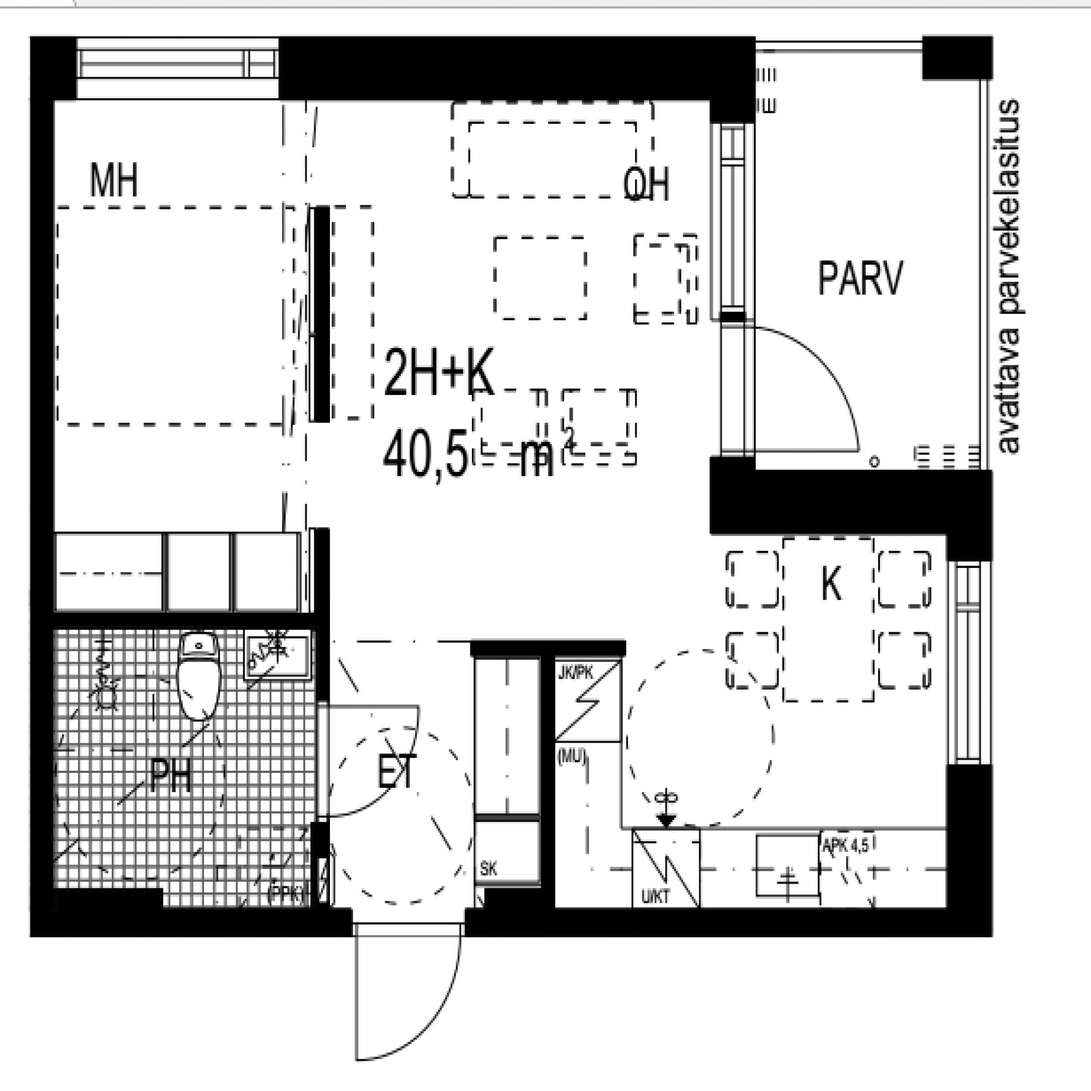wall: (29, 35, 756, 97), (29, 907, 994, 938), (944, 533, 994, 907), (708, 471, 994, 535), (708, 97, 755, 470), (28, 97, 55, 610), (28, 629, 55, 888), (32, 614, 332, 628), (314, 203, 331, 421), (924, 33, 995, 83), (317, 629, 329, 907), (469, 637, 627, 658), (30, 885, 164, 908), (539, 659, 556, 810), (482, 888, 556, 909), (314, 526, 331, 614), (538, 822, 556, 889), (472, 811, 554, 822), (309, 822, 317, 905)
